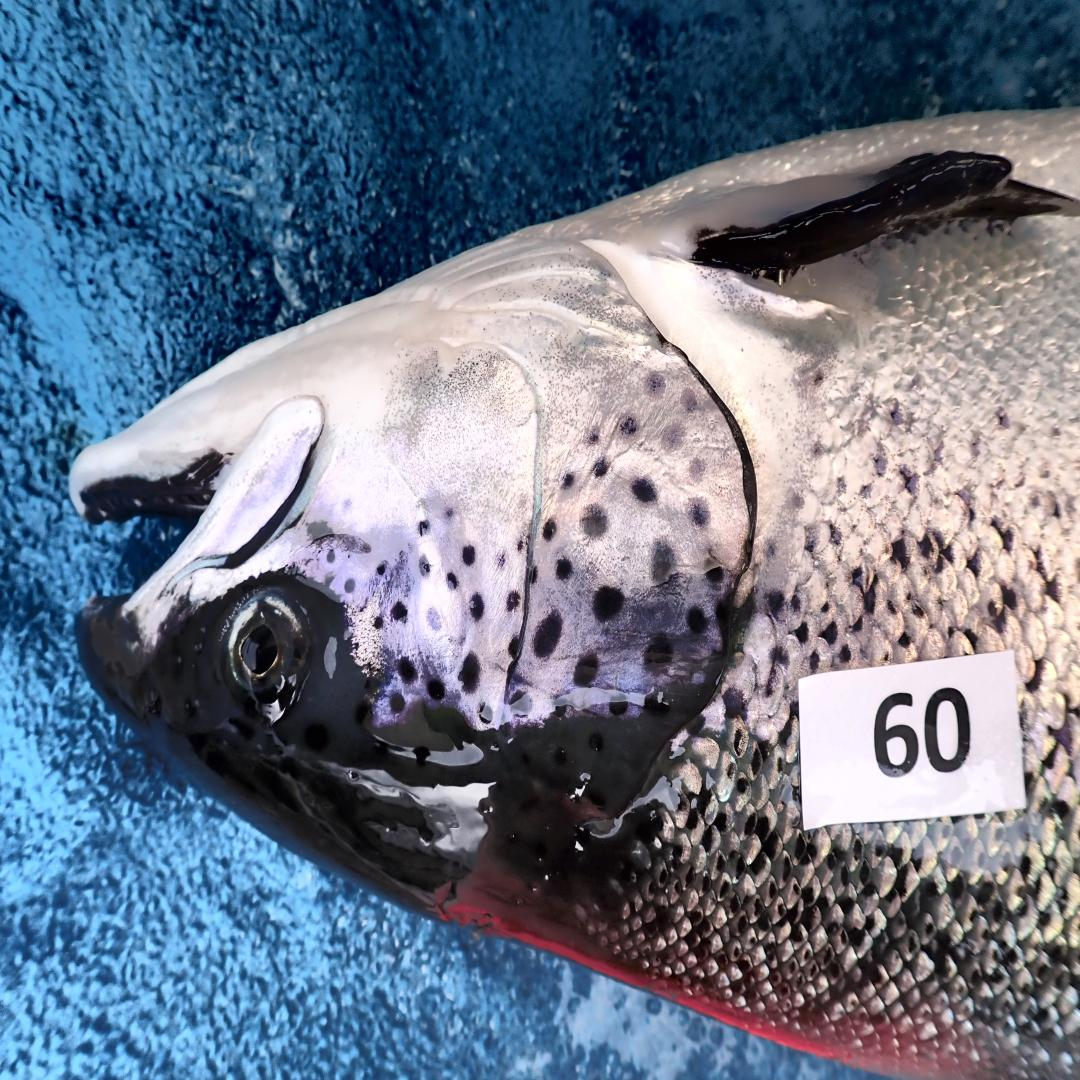spot: (533, 610, 562, 657), (644, 632, 673, 679), (651, 539, 677, 585), (593, 586, 625, 622), (458, 652, 481, 691), (658, 420, 685, 453), (573, 652, 599, 686), (581, 505, 608, 537), (631, 478, 657, 503), (644, 373, 665, 400), (645, 695, 669, 718), (703, 558, 723, 585), (511, 690, 531, 717), (690, 499, 709, 526), (687, 606, 706, 633), (688, 457, 706, 484), (399, 657, 417, 681), (555, 557, 573, 580), (680, 387, 697, 411), (426, 606, 442, 631), (609, 695, 629, 715), (427, 679, 445, 700), (470, 593, 484, 620), (620, 415, 637, 436), (508, 635, 520, 661), (592, 458, 608, 477), (391, 601, 407, 620), (390, 693, 405, 712), (543, 519, 556, 540), (479, 703, 492, 724), (419, 554, 431, 576), (462, 545, 475, 565), (507, 591, 520, 611), (552, 700, 567, 715), (446, 572, 458, 589), (562, 472, 574, 488), (418, 519, 429, 535), (344, 578, 355, 593), (588, 429, 599, 443), (376, 561, 387, 575), (373, 616, 383, 629), (326, 549, 335, 563), (445, 507, 454, 519), (531, 566, 537, 583), (498, 554, 505, 568), (517, 540, 524, 552)
